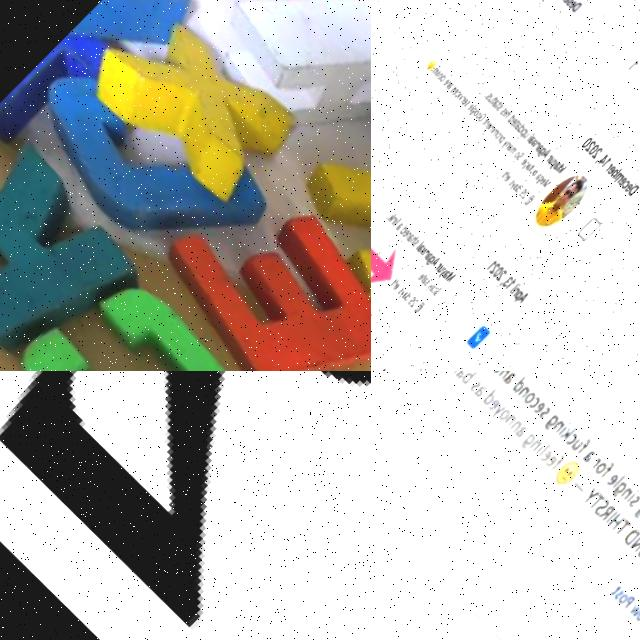0: (591, 143, 605, 157), (585, 135, 599, 149), (498, 264, 512, 278)
1: (605, 156, 618, 168), (512, 278, 524, 291), (492, 259, 505, 271), (631, 59, 640, 71), (382, 367, 394, 371)
2: (0, 371, 371, 634), (494, 261, 508, 275), (595, 146, 608, 160), (589, 139, 602, 153), (502, 269, 516, 282), (525, 189, 536, 200), (416, 298, 427, 308)
3: (508, 274, 521, 288)
4: (601, 152, 615, 167)
9: (523, 186, 533, 198), (414, 295, 424, 305)
A: (515, 422, 533, 439), (474, 382, 491, 398), (584, 447, 600, 463), (502, 371, 519, 386), (455, 371, 471, 379)
B: (460, 371, 481, 385)
C: (1, 256, 268, 371), (528, 394, 545, 410), (566, 431, 582, 446)
D: (512, 374, 532, 393), (484, 387, 504, 406), (625, 525, 640, 546)
E: (149, 169, 371, 371), (608, 471, 624, 487), (541, 447, 557, 463), (488, 396, 504, 412), (534, 399, 549, 416), (546, 453, 562, 468)
F: (601, 459, 620, 478), (577, 436, 596, 455), (553, 454, 570, 471)
G: (613, 479, 632, 499), (544, 412, 563, 431), (522, 432, 540, 450), (635, 501, 640, 519)
H: (610, 511, 631, 531)
I: (558, 420, 574, 436), (537, 439, 551, 454), (627, 487, 640, 503), (608, 509, 622, 523)
K: (0, 107, 172, 371), (562, 422, 581, 441)
L: (614, 473, 629, 488), (541, 442, 555, 456)
N: (518, 383, 534, 399), (531, 437, 546, 453), (511, 418, 526, 434), (504, 412, 520, 427), (553, 419, 568, 434), (623, 486, 638, 500), (498, 371, 514, 380), (633, 533, 640, 552)
O: (596, 460, 612, 476), (524, 389, 540, 405), (499, 406, 515, 422), (622, 592, 636, 605)
P: (625, 593, 640, 609)
R: (258, 90, 371, 371), (602, 503, 620, 521), (593, 456, 605, 469)
S: (596, 497, 616, 516), (539, 404, 555, 420), (470, 378, 486, 393), (617, 587, 630, 599), (630, 493, 640, 508)
T: (589, 491, 610, 511), (616, 518, 636, 537), (614, 583, 627, 596)
U: (573, 437, 588, 451)
W: (632, 602, 640, 618)
X: (100, 4, 308, 200)
Y: (583, 486, 604, 506), (490, 402, 508, 419)
